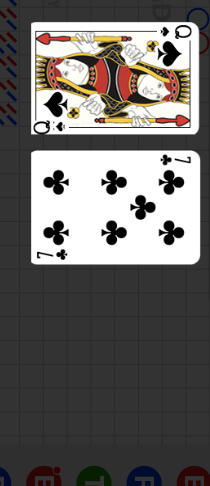7C: (35, 247, 70, 262), (158, 154, 193, 168)
